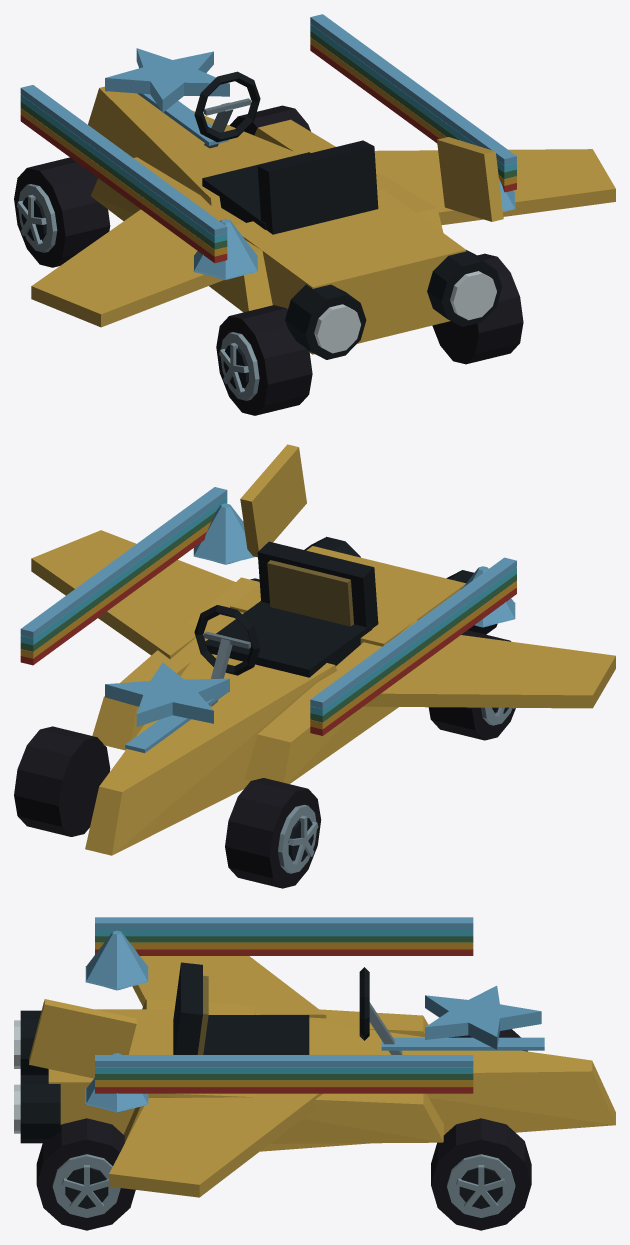
Rendered from kart.glb.
The picture shows the model from 3 angles, top to bottom: view 1: azimuth 30°, elevation 25°; view 2: azimuth 150°, elevation 25°; view 3: azimuth 270°, elevation 25°; orthographic projection. The views are drawn at different scales.
Parts seen in each view (by area): view 1: identity-starfighter-starfighter-flight-planform, identity-starfighter-motif-rainbow, identity-starfighter-driver-cockpit, wheel-rear-left, wheel-front-left, wheel-rear-right, identity-starfighter-motif-star, identity-starfighter-motif-gems, wheel-front-right; view 2: identity-starfighter-starfighter-flight-planform, identity-starfighter-motif-rainbow, identity-starfighter-driver-cockpit, wheel-front-left, wheel-front-right, identity-starfighter-motif-star, identity-starfighter-motif-gems, wheel-rear-left; view 3: identity-starfighter-starfighter-flight-planform, identity-starfighter-motif-rainbow, wheel-front-right, identity-starfighter-driver-cockpit, wheel-rear-right, identity-starfighter-motif-star, identity-starfighter-motif-gems.
Part boxes in pixels (x1,y1,x2,y2): identity-starfighter-starfighter-flight-planform: [31, 86, 615, 359]; identity-starfighter-motif-rainbow: [20, 14, 516, 263]; identity-starfighter-driver-cockpit: [194, 71, 378, 234]; wheel-rear-left: [216, 305, 312, 415]; wheel-front-left: [14, 157, 110, 267]; wheel-rear-right: [432, 253, 523, 364]; identity-starfighter-motif-star: [105, 48, 229, 112]; identity-starfighter-motif-gems: [193, 178, 515, 280]; wheel-front-right: [229, 105, 310, 135]; identity-starfighter-starfighter-flight-planform: [31, 444, 615, 855]; identity-starfighter-motif-rainbow: [20, 487, 516, 735]; identity-starfighter-driver-cockpit: [194, 541, 378, 706]; wheel-front-left: [225, 778, 321, 888]; wheel-front-right: [14, 726, 110, 836]; identity-starfighter-motif-star: [105, 662, 229, 726]; identity-starfighter-motif-gems: [193, 503, 515, 627]; wheel-rear-left: [428, 630, 515, 740]; identity-starfighter-starfighter-flight-planform: [14, 956, 615, 1197]; identity-starfighter-motif-rainbow: [95, 917, 473, 1093]; wheel-front-right: [431, 1118, 531, 1230]; identity-starfighter-driver-cockpit: [173, 962, 402, 1054]; wheel-rear-right: [36, 1118, 135, 1230]; identity-starfighter-motif-star: [425, 985, 541, 1049]; identity-starfighter-motif-gems: [85, 930, 148, 1112].
Bounding box in the file's own units: 3.14 × 1.18 × 2.99.
